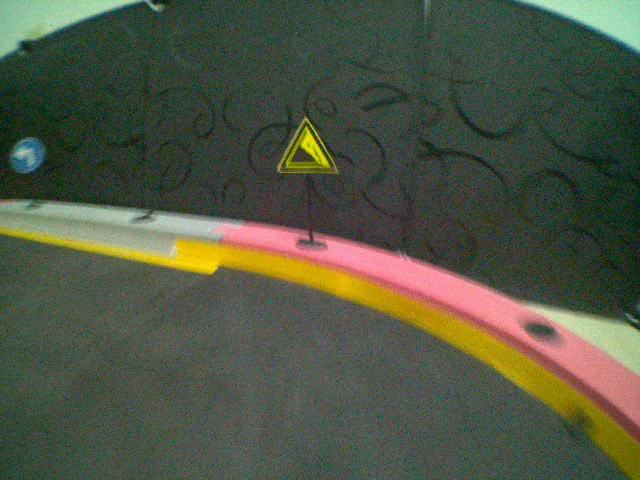fast: (275, 114, 341, 175)
turn: (8, 135, 46, 177)
